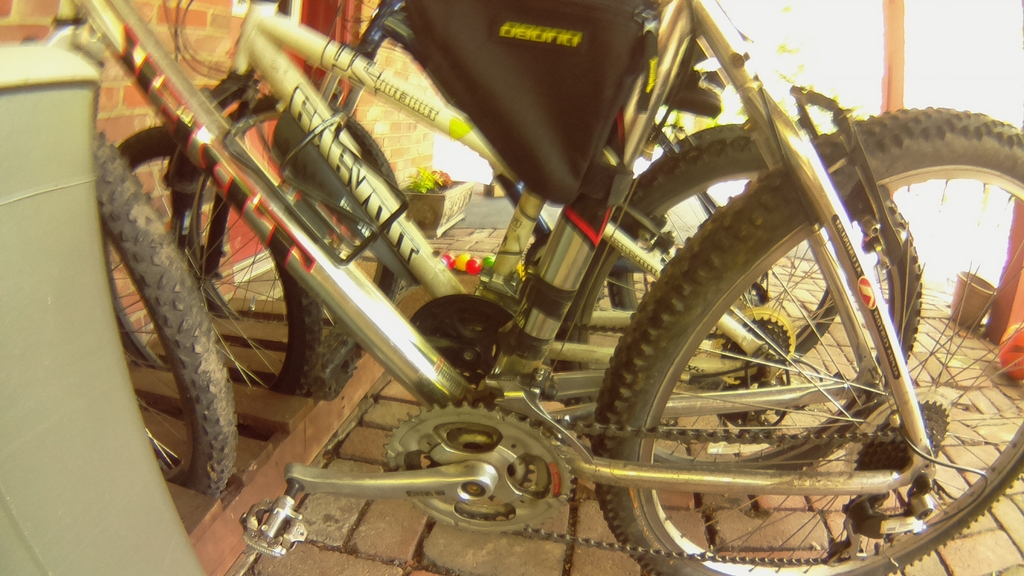ball: (484, 258, 493, 268)
